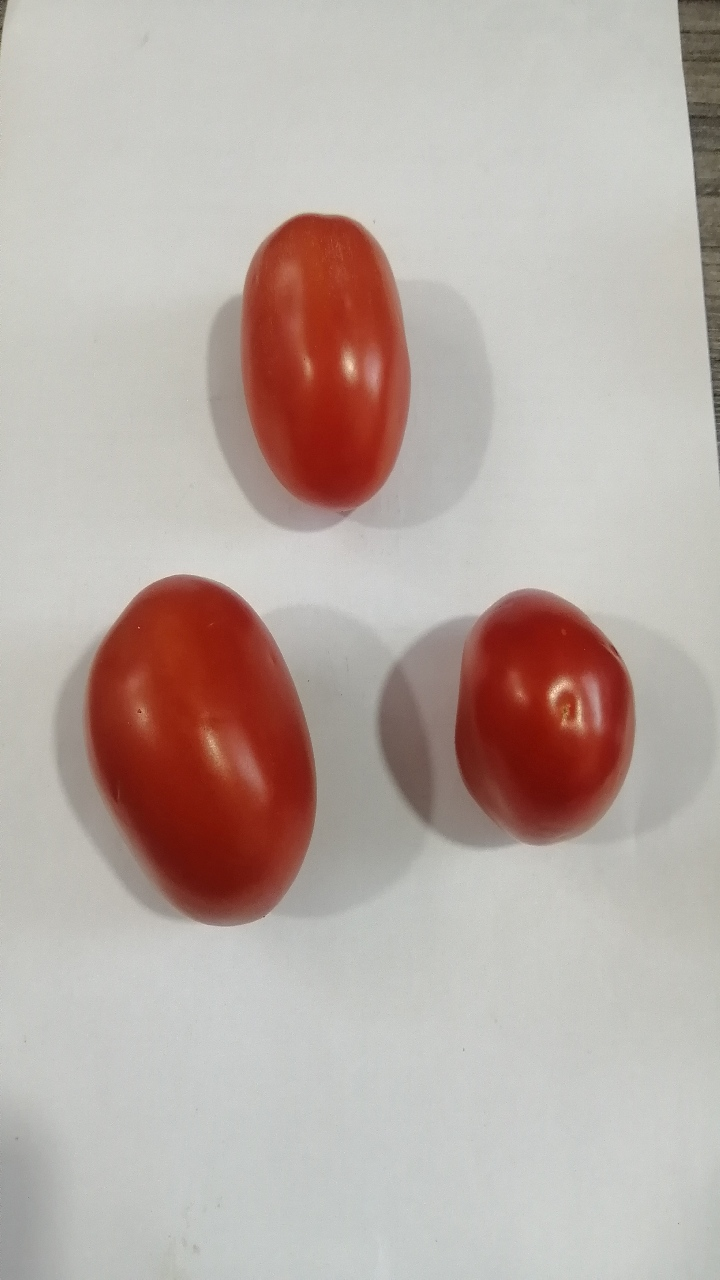tomateRojo: (55, 549, 355, 948), (221, 195, 449, 523), (424, 569, 657, 874)
